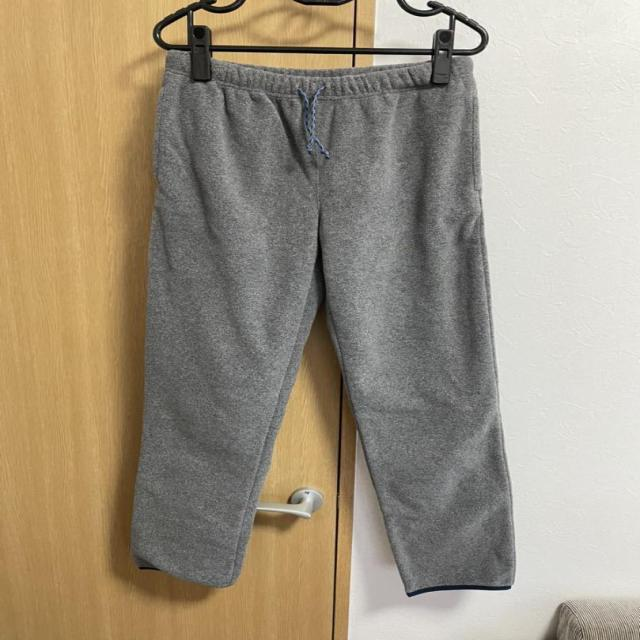long-pants: (135, 50, 515, 598)
